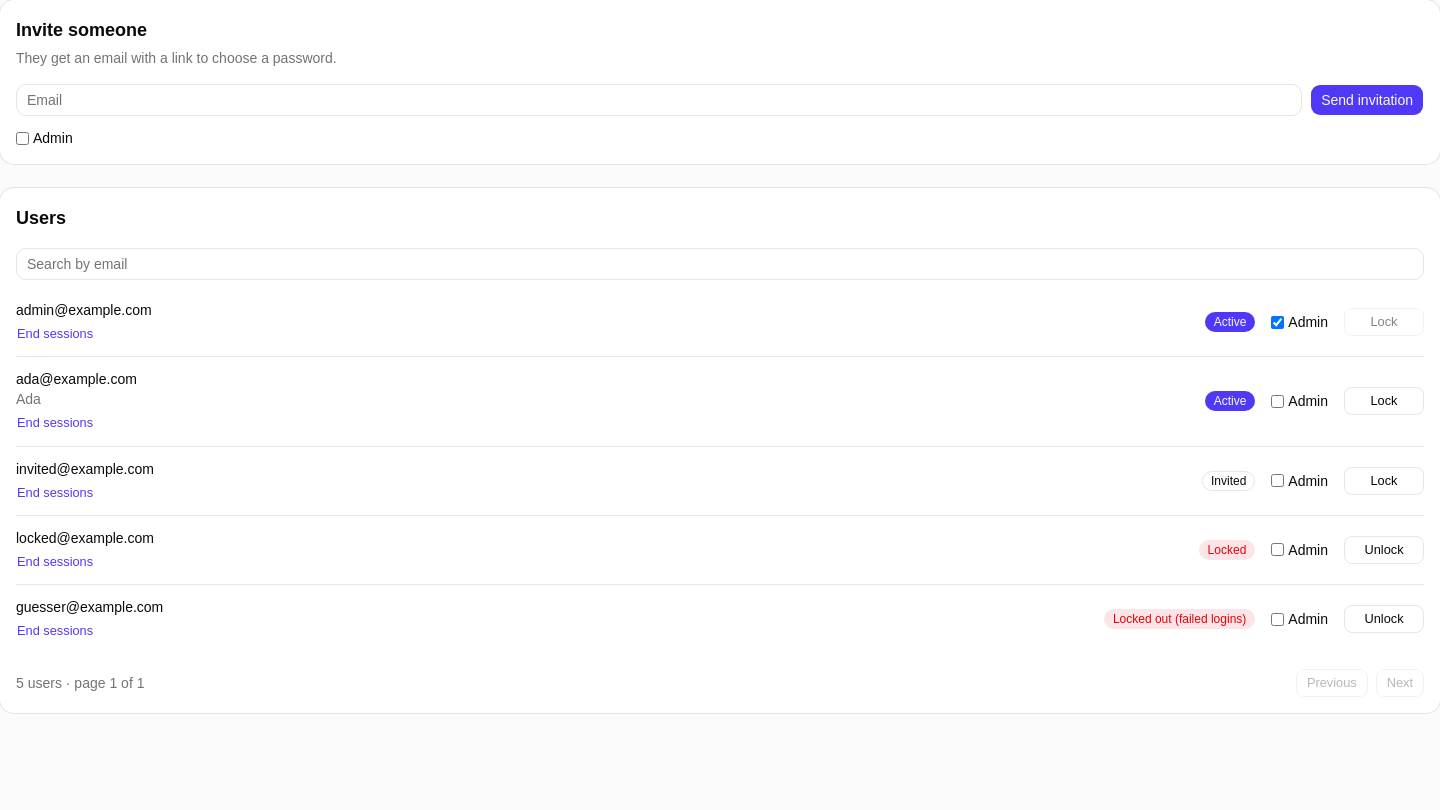
AdminPage › invites someone with roles
Type "new@example.com" into the field with placeholder "Email".
click(659, 100); type("new@example.com")  # box [16,84,1302,116]
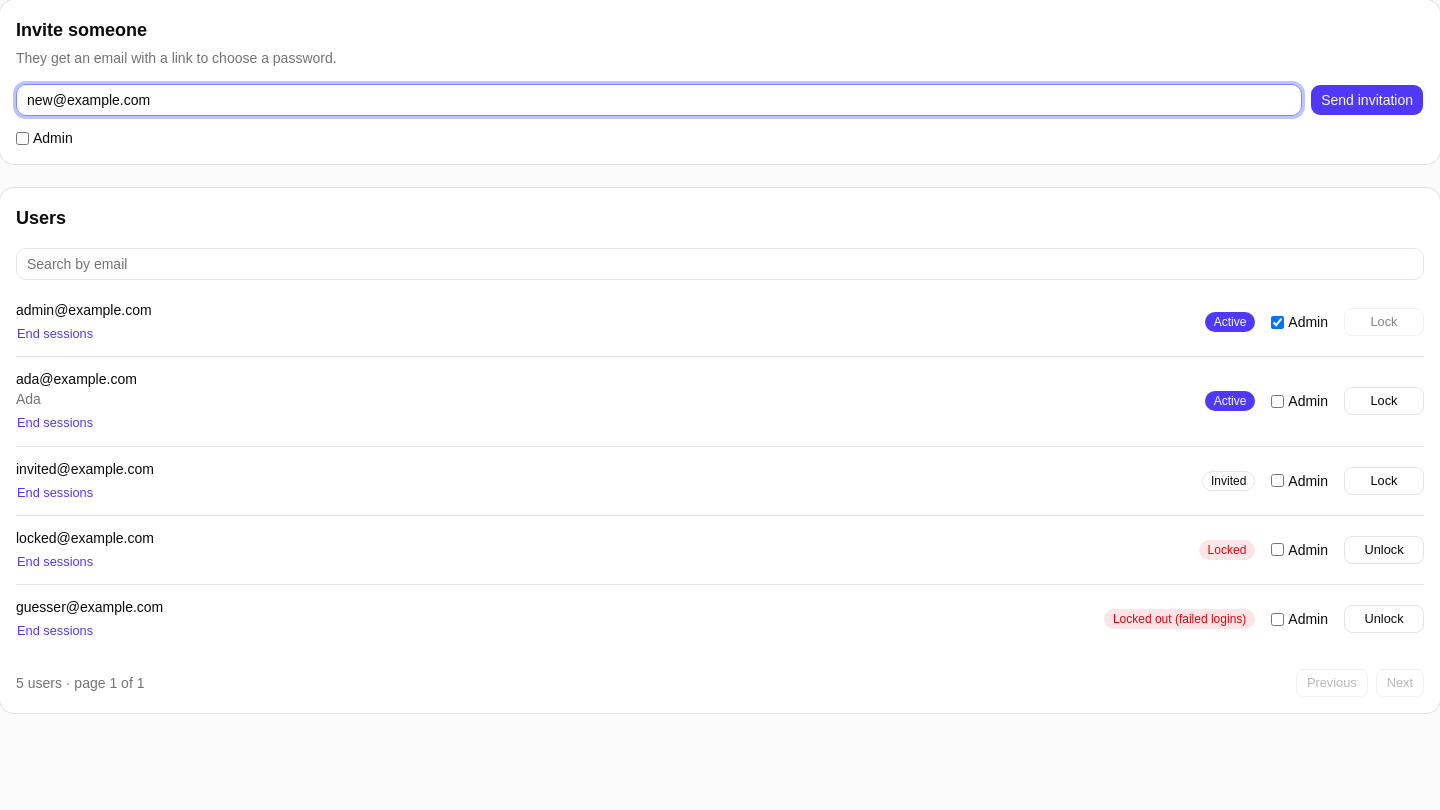
Click the checkbox labelled "Admin" below "Invite someone".
click(22, 138)  # box [16,132,29,144]
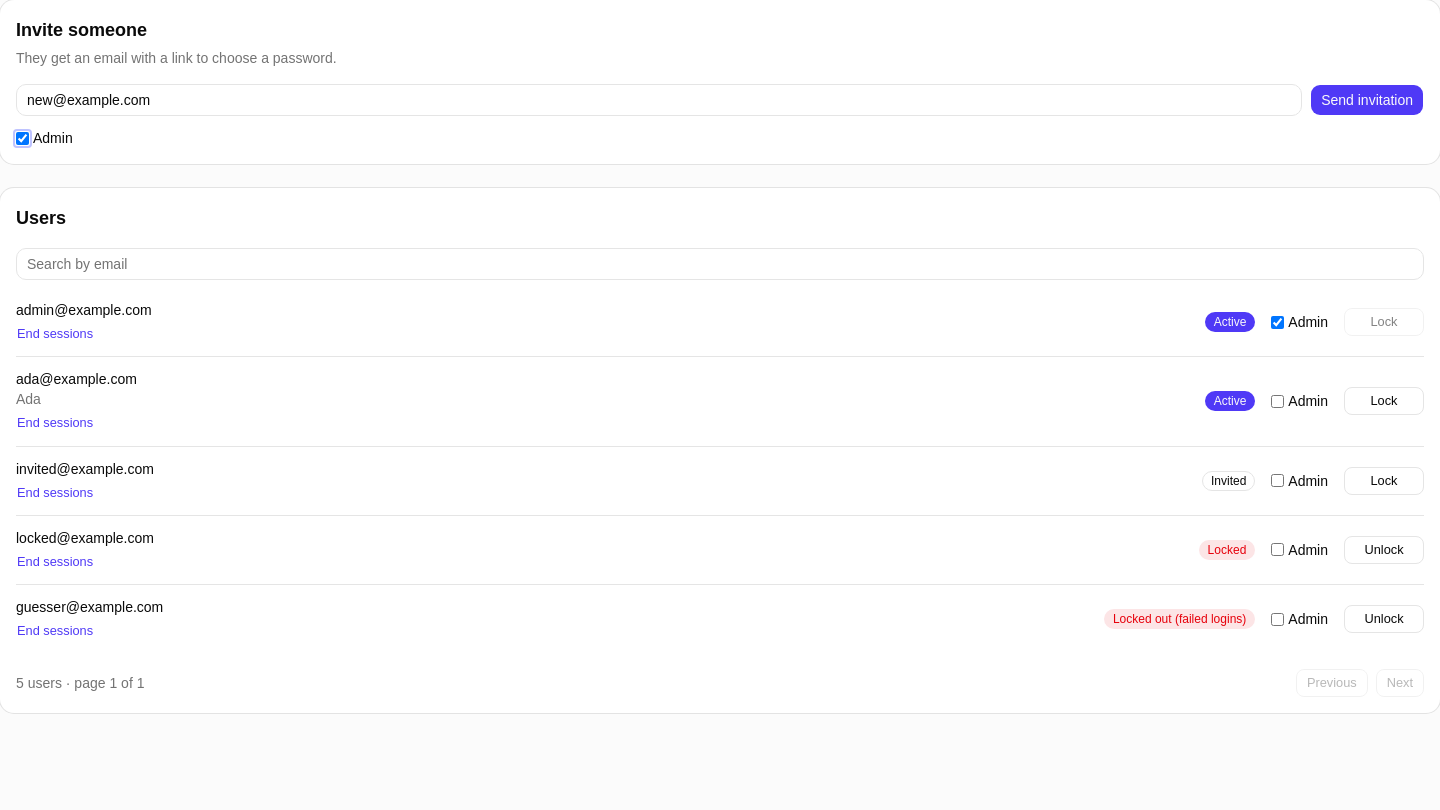
Click the button "Send invitation".
click(1367, 100)  # box [1310,84,1424,116]
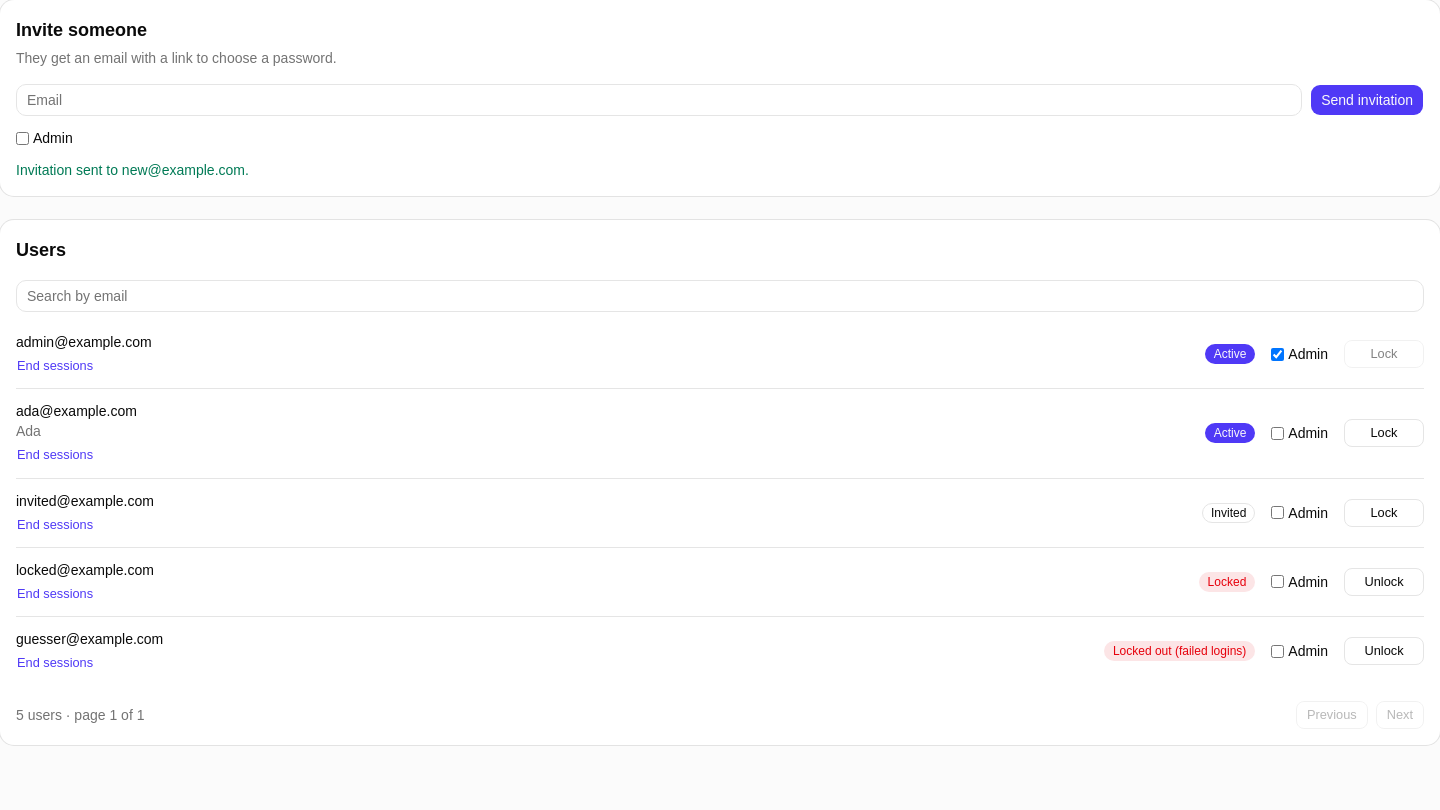
Now the text "Invitation sent to new@example.com." is shown, box [16,162,249,178]
